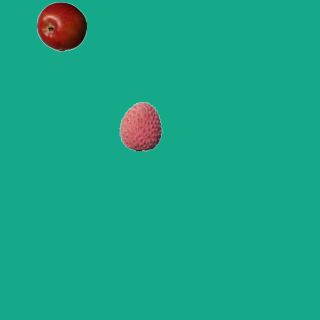Apple Braeburn: (36, 1, 86, 51)
Lychee: (115, 101, 165, 151)
